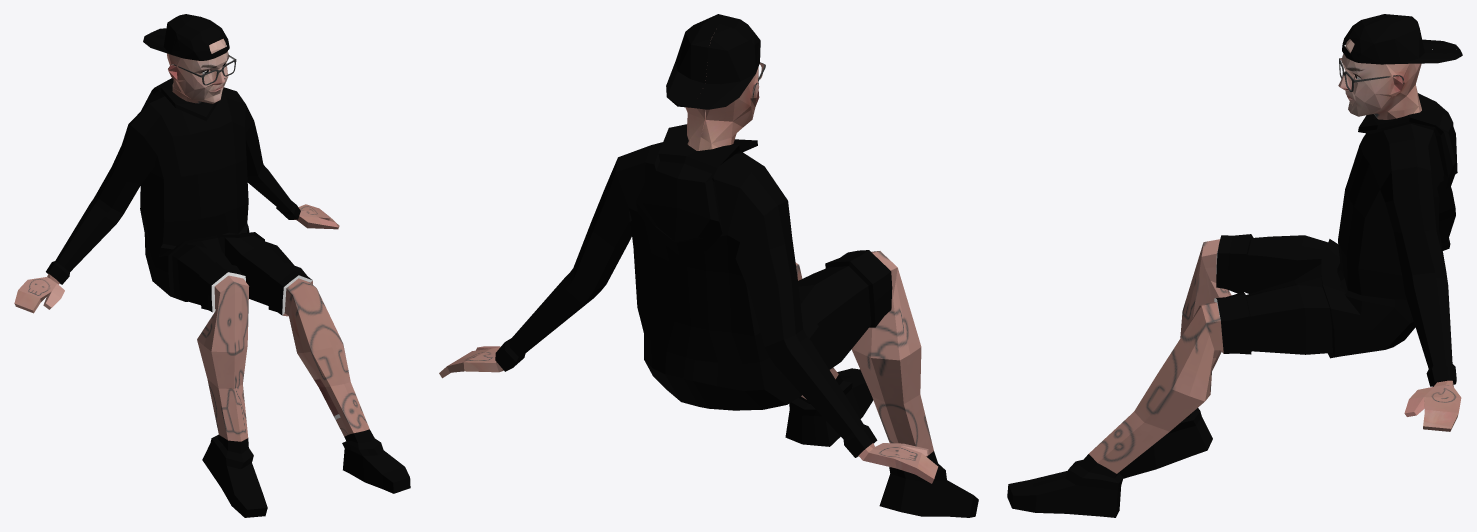
Rendered from xmov.glb.
The picture shows the model from 3 angles, left to right: view 1: azimuth 30°, elevation 25°; view 2: azimuth 150°, elevation 25°; view 3: azimuth 270°, elevation 25°; orthographic projection. The views are drawn at different scales.
Visible parts, largest first — view 1: Cube; view 2: Cube; view 3: Cube.
Part boxes in pixels (box(x1,y1,x2,y2)): Cube: box(14, 14, 410, 517); Cube: box(439, 14, 978, 517); Cube: box(1007, 14, 1462, 517).
Size of the model in its own units: 1.13 by 1.33 by 1.12.
Materials: 1 (1 with a texture image).
